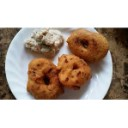vada: (27, 58, 61, 99), (58, 53, 92, 88), (69, 30, 108, 59)
